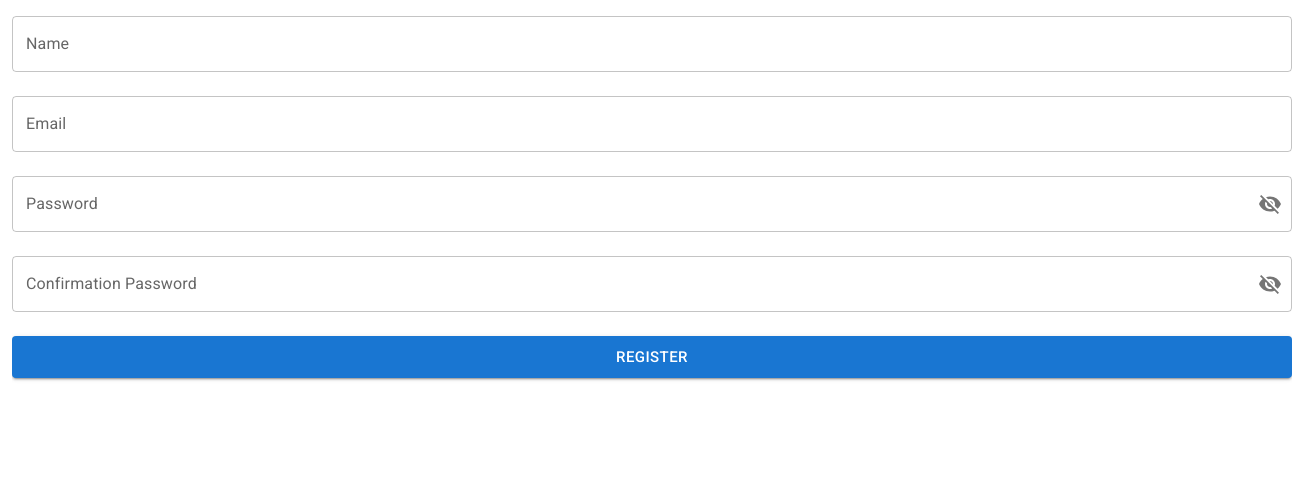
it: RegisterInput Component › should showing error msg when email is not valid
This screenshot has width=1304, height=490.
In the field with placeholder "Email": (652, 124) [12,96,1292,152], type "anis@"
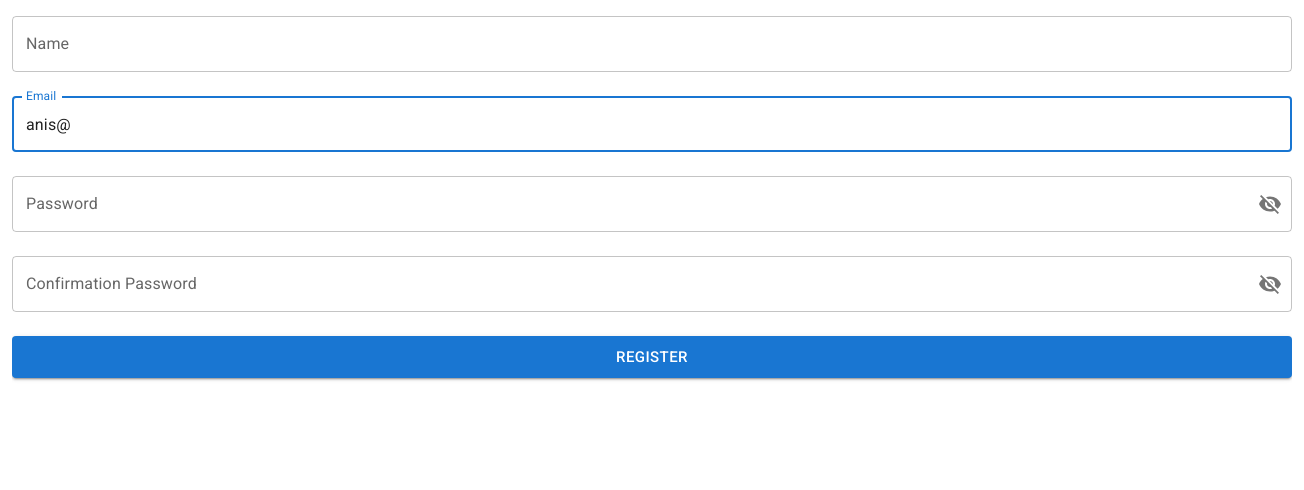
Click the button "Register": click(652, 357) [12,336,1292,378]
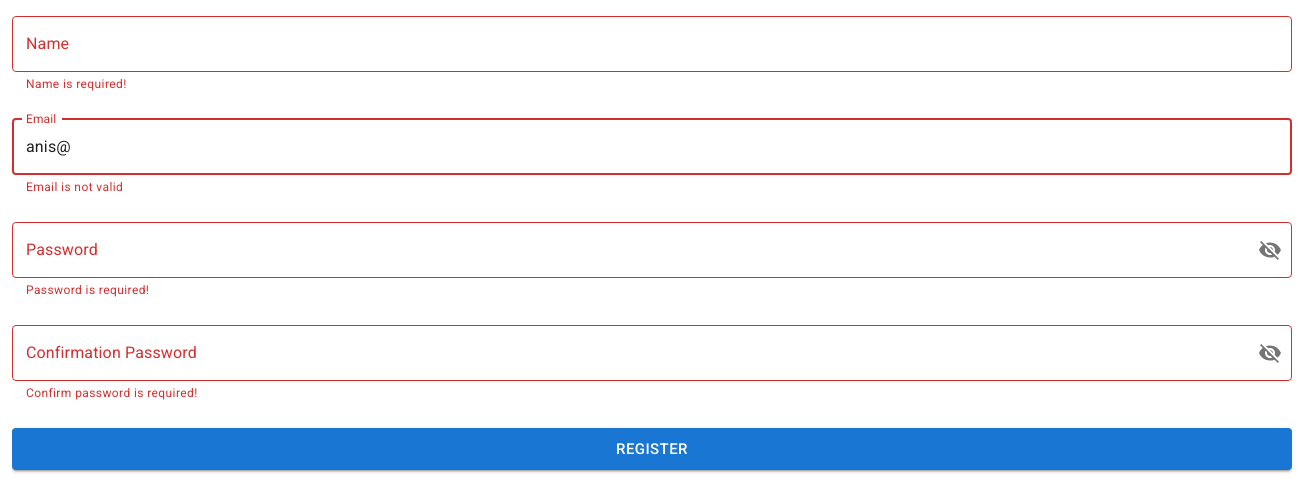
Result: the text "Email is not valid" is shown at [26,180,123,194]
